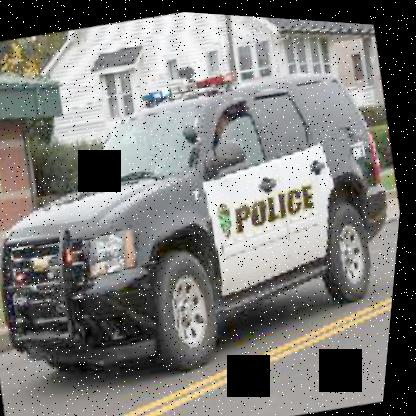emergency: (0, 29, 413, 411)
